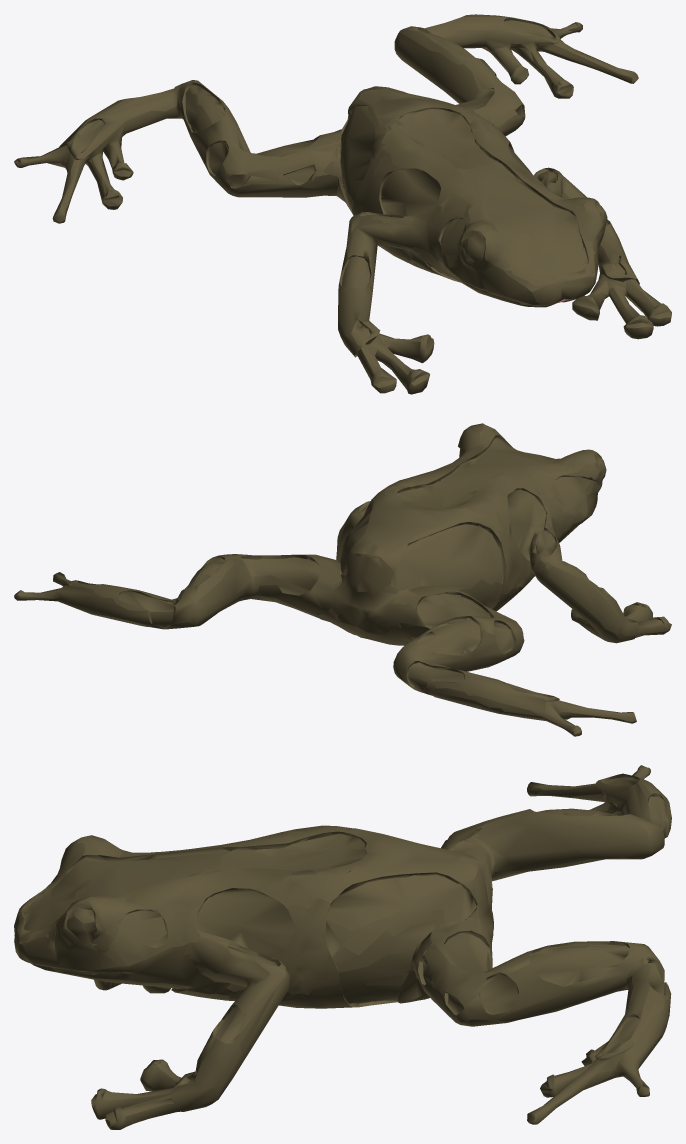
The model's file is harlequin-mint.swim.lo.glb.
3 renders of one model, top to bottom at view 1: azimuth 30°, elevation 25°; view 2: azimuth 150°, elevation 25°; view 3: azimuth 270°, elevation 25°, orthographic. The views are drawn at different scales.
Visible parts, largest first — view 1: harlequin.swim; view 2: harlequin.swim; view 3: harlequin.swim.
Boxes of the visible parts, <box> form: harlequin.swim: <box>14,14,671,394</box>; harlequin.swim: <box>14,423,671,736</box>; harlequin.swim: <box>14,765,671,1129</box>.
Size of the model in its own units: 0.0546 by 0.0155 by 0.0452.
